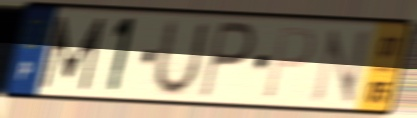1: (104, 14, 138, 98)
M: (38, 13, 109, 92)
N: (308, 27, 374, 106)
P: (196, 18, 259, 102), (261, 25, 319, 102)
U: (148, 16, 212, 100)
